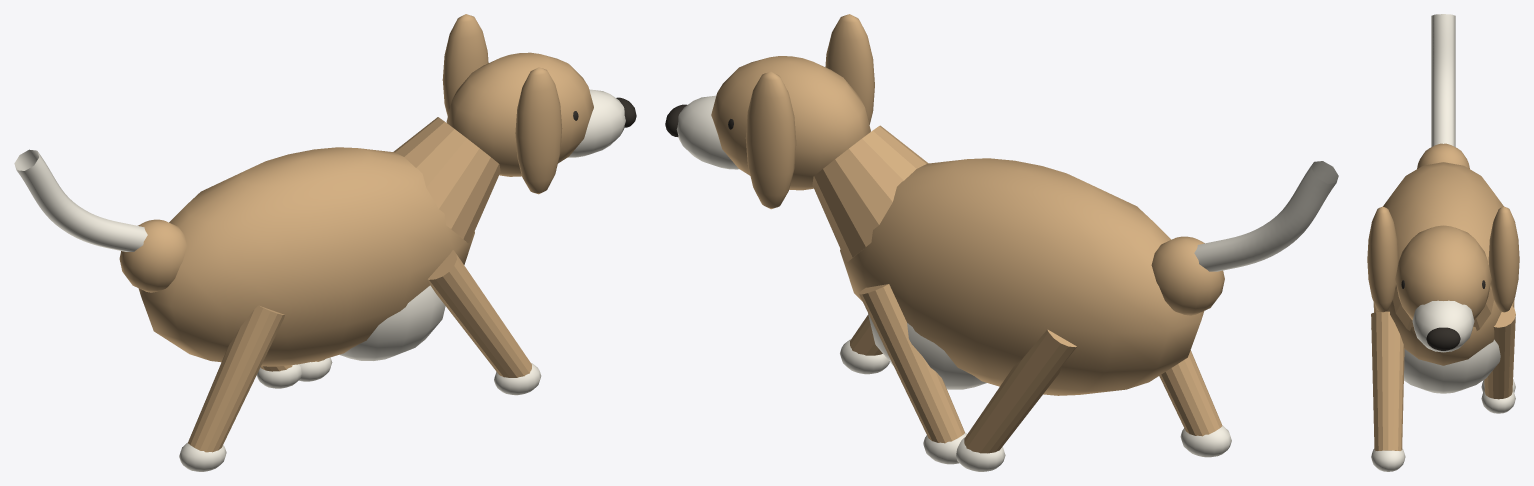
The model's file is hound.glb.
The picture shows the model from 3 angles, left to right: view 1: azimuth 30°, elevation 25°; view 2: azimuth 150°, elevation 25°; view 3: azimuth 270°, elevation 25°; orthographic projection. The views are drawn at different scales.
Visible parts, largest first — view 1: Hound body, Hound head, Hound neck, Hound leg -0.2--0.16, Hound leg 0.28--0.16, Hound ear, Hound tail, Hound chest patch, Hound tail base, Hound ear.001, Hound muzzle, Hound paw -0.2--0.16 (+2 smaller); view 2: Hound body, Hound head, Hound neck, Hound leg 0.28-0.16, Hound ear.001, Hound leg -0.2-0.16, Hound tail, Hound tail base, Hound ear, Hound leg -0.2--0.16, Hound muzzle, Hound chest patch (+5 smaller); view 3: Hound body, Hound head, Hound leg 0.28--0.16, Hound tail, Hound chest patch, Hound ear, Hound ear.001, Hound muzzle, Hound leg 0.28-0.16, Hound tail base, Hound neck, Hound nose (+2 smaller).
Part boxes in pixels (<box>): Hound body: <box>138,147,474,366</box>; Hound head: <box>446,52,593,176</box>; Hound neck: <box>393,117,500,243</box>; Hound leg -0.2--0.16: <box>188,305,284,452</box>; Hound leg 0.28--0.16: <box>427,250,531,377</box>; Hound ear: <box>515,67,562,194</box>; Hound tail: <box>14,149,147,251</box>; Hound chest patch: <box>339,285,445,360</box>; Hound tail base: <box>119,219,187,292</box>; Hound ear.001: <box>442,14,488,116</box>; Hound muzzle: <box>568,89,625,157</box>; Hound paw -0.2--0.16: <box>179,442,226,471</box>; Hound body: <box>840,158,1204,395</box>; Hound head: <box>711,56,870,190</box>; Hound neck: <box>812,125,928,262</box>; Hound leg 0.28-0.16: <box>859,284,964,443</box>; Hound ear.001: <box>745,71,796,209</box>; Hound leg -0.2-0.16: <box>964,329,1076,453</box>; Hound tail: <box>1194,161,1338,271</box>; Hound tail base: <box>1151,236,1224,315</box>; Hound ear: <box>825,14,874,124</box>; Hound leg -0.2--0.16: <box>1159,350,1222,436</box>; Hound muzzle: <box>676,95,739,169</box>; Hound chest patch: <box>868,313,986,389</box>; Hound body: <box>1375,162,1503,365</box>; Hound head: <box>1395,225,1491,320</box>; Hound leg 0.28--0.16: <box>1371,311,1404,450</box>; Hound tail: <box>1431,14,1455,146</box>; Hound chest patch: <box>1404,339,1500,393</box>; Hound ear: <box>1367,206,1398,312</box>; Hound ear.001: <box>1488,206,1519,312</box>; Hound muzzle: <box>1412,300,1474,352</box>; Hound leg 0.28-0.16: <box>1484,305,1515,399</box>; Hound tail base: <box>1417,143,1469,168</box>; Hound neck: <box>1393,285,1493,330</box>; Hound nose: <box>1426,327,1460,350</box>.
Bounding box in the file's own units: 1.72 × 0.8744 × 0.442.
